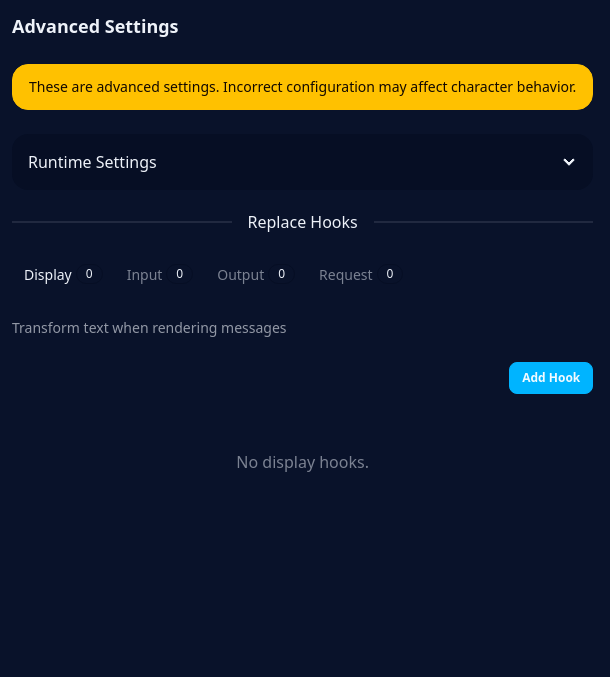
Scenario: CharacterHooksSettings Component › renders runtime settings correctly
Click the checkbox labelled "Runtime Settings": (303, 162) [12,134,593,190]
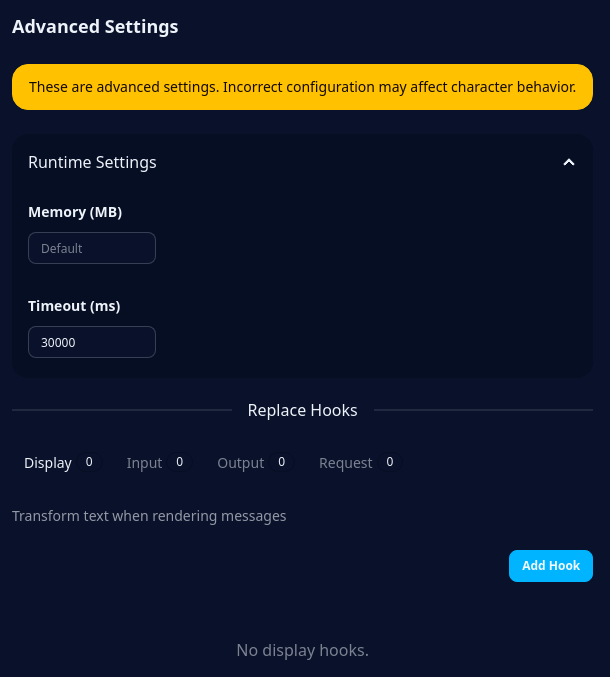
expect the number field labelled "Memory (MB)" is not empty: met, box [28,232,156,264]
expect the number field labelled "Timeout (ms)" holds "30000": met, box [28,326,156,358]
